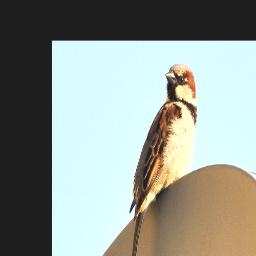Swallow: (129, 64, 198, 256)
